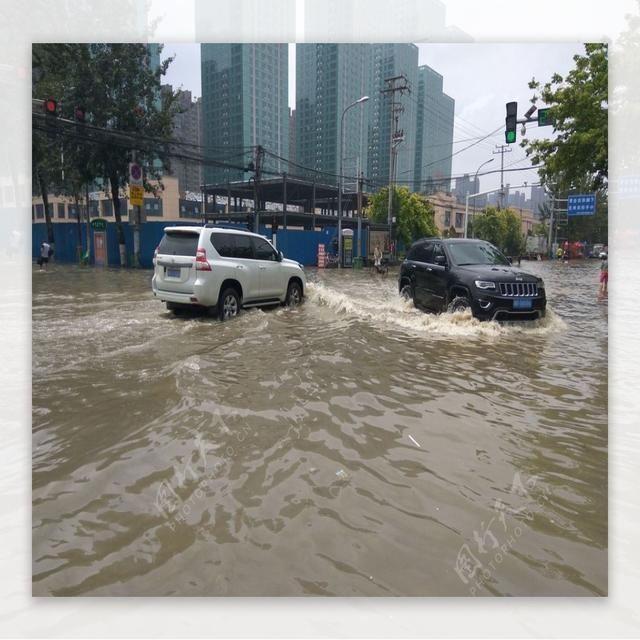Car-RiskLevel2: (139, 222, 317, 320), (396, 227, 547, 334)
